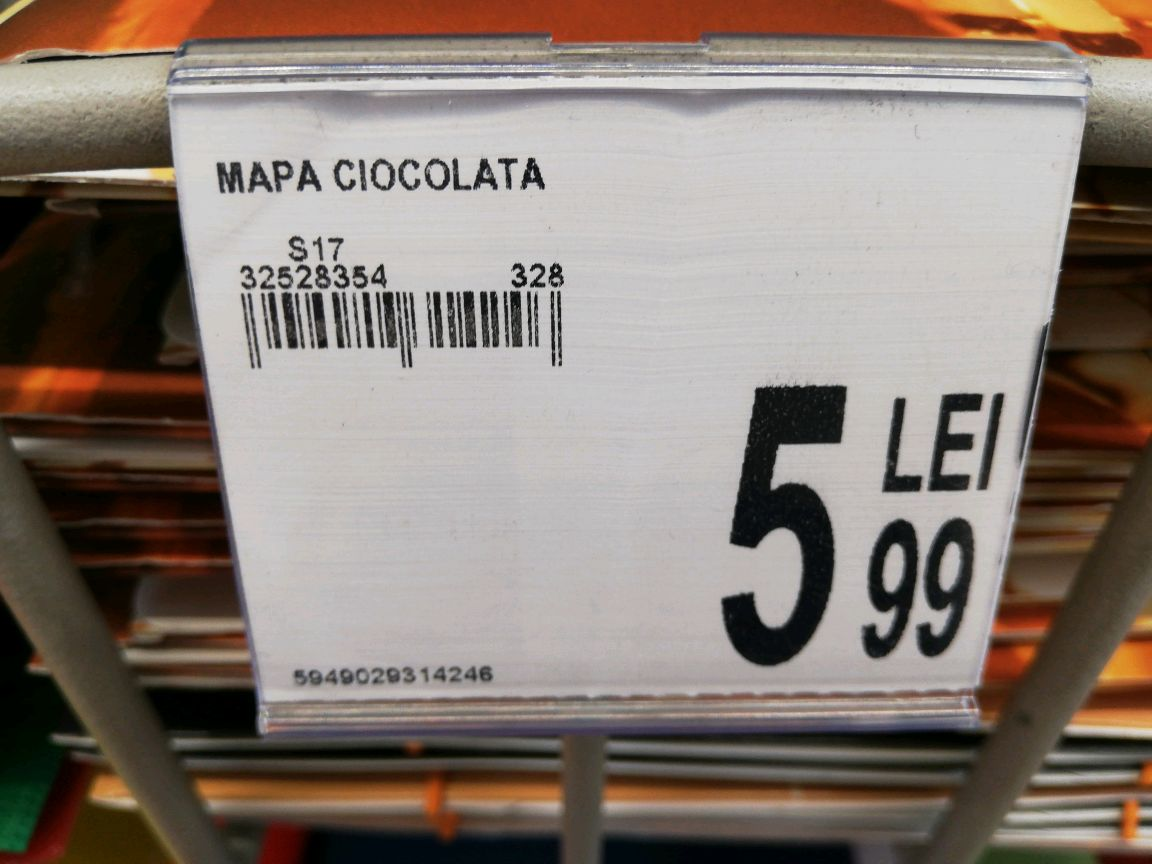price_bani: (856, 507, 988, 670)
price_lei: (710, 379, 853, 680)
price_tag: (150, 53, 1107, 724)
product_id: (281, 650, 503, 689)
product_name: (204, 153, 571, 208)
